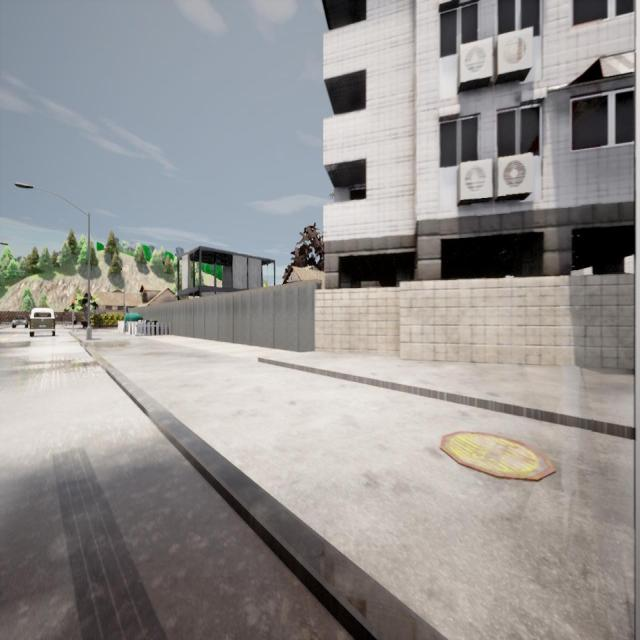Vehicle: (28, 307, 58, 337), (12, 316, 27, 328)
traffic_light: (72, 300, 74, 310)
